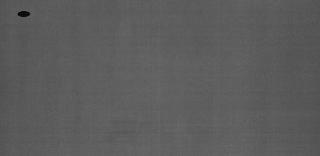punching hole: (15, 9, 32, 19)
